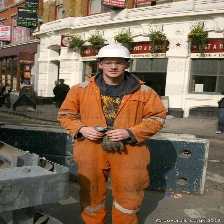helmet: (93, 43, 135, 61)
person: (48, 41, 179, 224)
vest: (56, 74, 170, 174)
